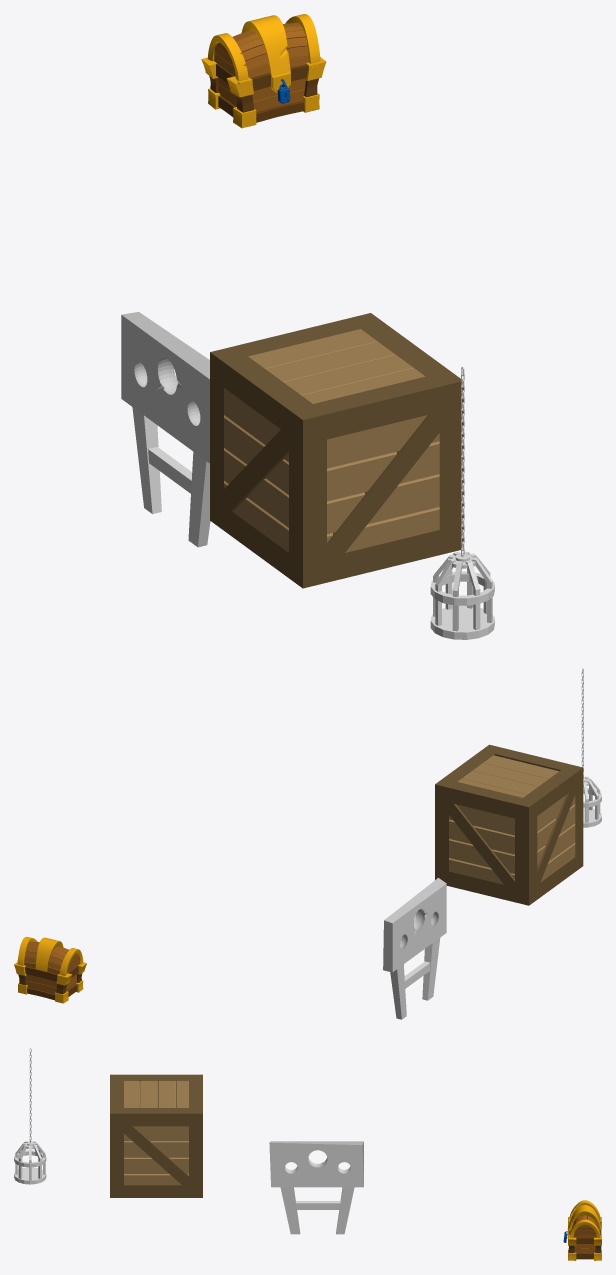
Rendered from Obsticle.fbx.
3 views of the same model, one above another, from view 1: azimuth 30°, elevation 25°; view 2: azimuth 150°, elevation 25°; view 3: azimuth 270°, elevation 25° (orthographic). The views are drawn at different scales.
Parts seen in each view (by area): view 1: Cube.001, Cube, Cube.007, Cube.002, Cube.008, Cube.003, Cube.012, Cube.005, Cube.019, Cube.016, Cube.009, Cube.017; view 2: Cube.001, Cube.007, Cube, Cube.002, Cube.004, Cube.012, Cube.008, Cube.005, Cube.019, Cube.016; view 3: Cube.001, Cube.007, Cube, Cube.002, Cube.008, Cube.006, Cube.012, Cube.013.
Boxes of the visible parts, x1=… form: Cube.001: x1=210, y1=313, x2=463, y2=588; Cube: x1=224, y1=388, x2=439, y2=552; Cube.007: x1=121, y1=312, x2=210, y2=547; Cube.002: x1=248, y1=329, x2=425, y2=403; Cube.008: x1=430, y1=366, x2=494, y2=639; Cube.003: x1=327, y1=412, x2=439, y2=557; Cube.012: x1=207, y1=14, x2=320, y2=93; Cube.005: x1=224, y1=429, x2=288, y2=511; Cube.019: x1=232, y1=23, x2=308, y2=77; Cube.016: x1=252, y1=78, x2=305, y2=122; Cube.009: x1=201, y1=57, x2=326, y2=97; Cube.017: x1=208, y1=88, x2=319, y2=128; Cube.001: x1=435, y1=744, x2=583, y2=905; Cube.007: x1=383, y1=878, x2=446, y2=1019; Cube: x1=449, y1=795, x2=575, y2=884; Cube.002: x1=457, y1=755, x2=558, y2=797; Cube.004: x1=449, y1=802, x2=514, y2=887; Cube.012: x1=17, y1=936, x2=83, y2=976; Cube.008: x1=581, y1=668, x2=601, y2=827; Cube.005: x1=537, y1=788, x2=575, y2=884; Cube.019: x1=24, y1=941, x2=68, y2=974; Cube.016: x1=26, y1=974, x2=57, y2=1000; Cube.001: x1=110, y1=1074, x2=202, y2=1197; Cube.007: x1=269, y1=1141, x2=363, y2=1234; Cube: x1=124, y1=1126, x2=188, y2=1185; Cube.002: x1=124, y1=1080, x2=188, y2=1107; Cube.008: x1=14, y1=1048, x2=46, y2=1184; Cube.006: x1=124, y1=1126, x2=188, y2=1185; Cube.012: x1=567, y1=1200, x2=600, y2=1238; Cube.013: x1=574, y1=1237, x2=595, y2=1259.
Bounding box in the file's own units: 599 × 440 × 1266.
